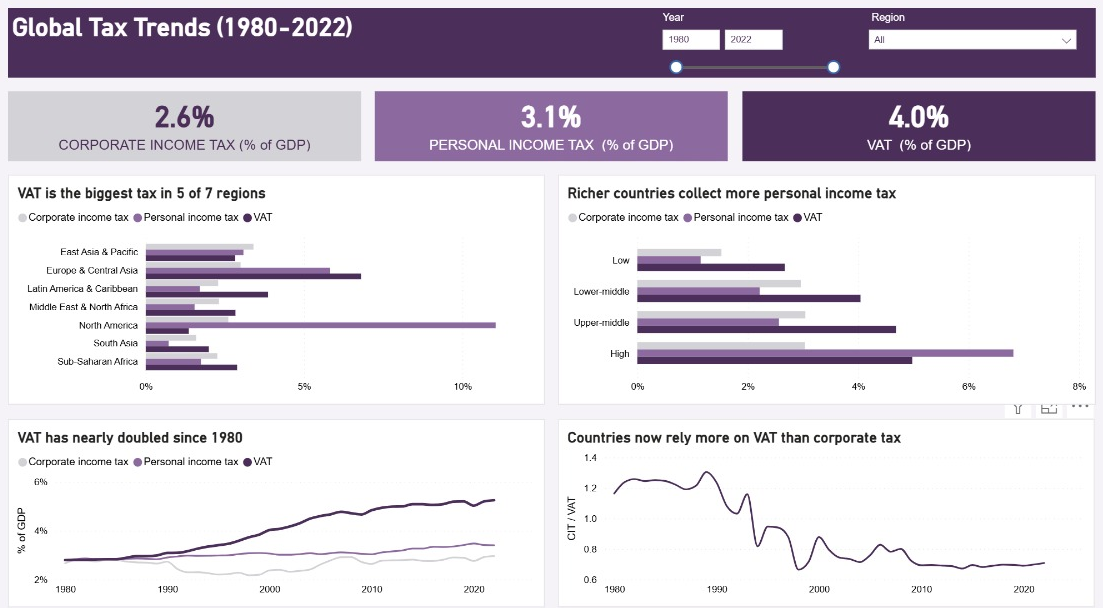

The page's visual inventory and layout, read from the dashboard file:
{"tool":"powerbi","page":{"name":"Global Tax Overview","canvas":[1280,720],"ordinal":0},"visuals":[{"type":"textbox","box":[16,16,1248,80],"z":0},{"type":"card","fields":{"Values":["Avg(Sheet1.CIT_Total)"]},"box":[16,112,405,80],"z":1000},{"type":"card","fields":{"Values":["Avg(Sheet1.PIT_Total)"]},"box":[437,112,405,80],"z":2000},{"type":"card","fields":{"Values":["Avg(Sheet1.VAT_Total)"]},"box":[859,112,405,80],"z":3000},{"type":"lineChart","title":"VAT has nearly doubled since 1980","fields":{"Category":["Sheet1.ID_Year"],"Y":["Avg(Sheet1.CIT_Total)","Avg(Sheet1.PIT_Total)","Avg(Sheet1.VAT_Total)"]},"box":[16,488,616,216],"z":4000},{"type":"lineChart","title":"Countries now rely more on VAT than corporate tax","fields":{"Category":["Sheet1 (2).ID_Year"],"Y":["Avg(Sheet1 (2).TAX_Mix_Fingerprint)"]},"box":[648,488,616,216],"z":5000},{"type":"clusteredBarChart","title":"VAT is the biggest tax in 5 of 7 regions","fields":{"Category":["Sheet1.Region"],"Y":["Avg(Sheet1.CIT_Total)","Avg(Sheet1.PIT_Total)","Avg(Sheet1.VAT_Total)"]},"box":[16,208,616,264],"z":6000},{"type":"clusteredBarChart","title":"Richer countries collect more personal income tax","fields":{"Category":["Sheet1.Income Group"],"Y":["Avg(Sheet1.CIT_Total)","Avg(Sheet1.PIT_Total)","Avg(Sheet1.VAT_Total)"]},"box":[648,208,616.9,264],"z":9000},{"type":"slicer","fields":{"Values":["Sheet1.ID_Year"]},"box":[760,20,220,76],"z":9500},{"type":"slicer","fields":{"Values":["Sheet1.Region"]},"box":[1000,20,248,76],"z":10000}]}

Visuals, with their boxes in screenshot pixels (x1, y1, x2, y2), scaled from the page's 1280x720 canvas onto the 1103x608 screenshot:
textbox: (14,14,1089,81)
card - Avg(Sheet1.CIT_Total): (14,95,363,162)
card - Avg(Sheet1.PIT_Total): (377,95,726,162)
card - Avg(Sheet1.VAT_Total): (740,95,1089,162)
"VAT has nearly doubled since 1980" lineChart: (14,412,545,594)
"Countries now rely more on VAT than corporate tax" lineChart: (558,412,1089,594)
"VAT is the biggest tax in 5 of 7 regions" clusteredBarChart: (14,176,545,399)
"Richer countries collect more personal income tax" clusteredBarChart: (558,176,1090,399)
slicer - Sheet1.ID_Year: (655,17,844,81)
slicer - Sheet1.Region: (862,17,1075,81)
